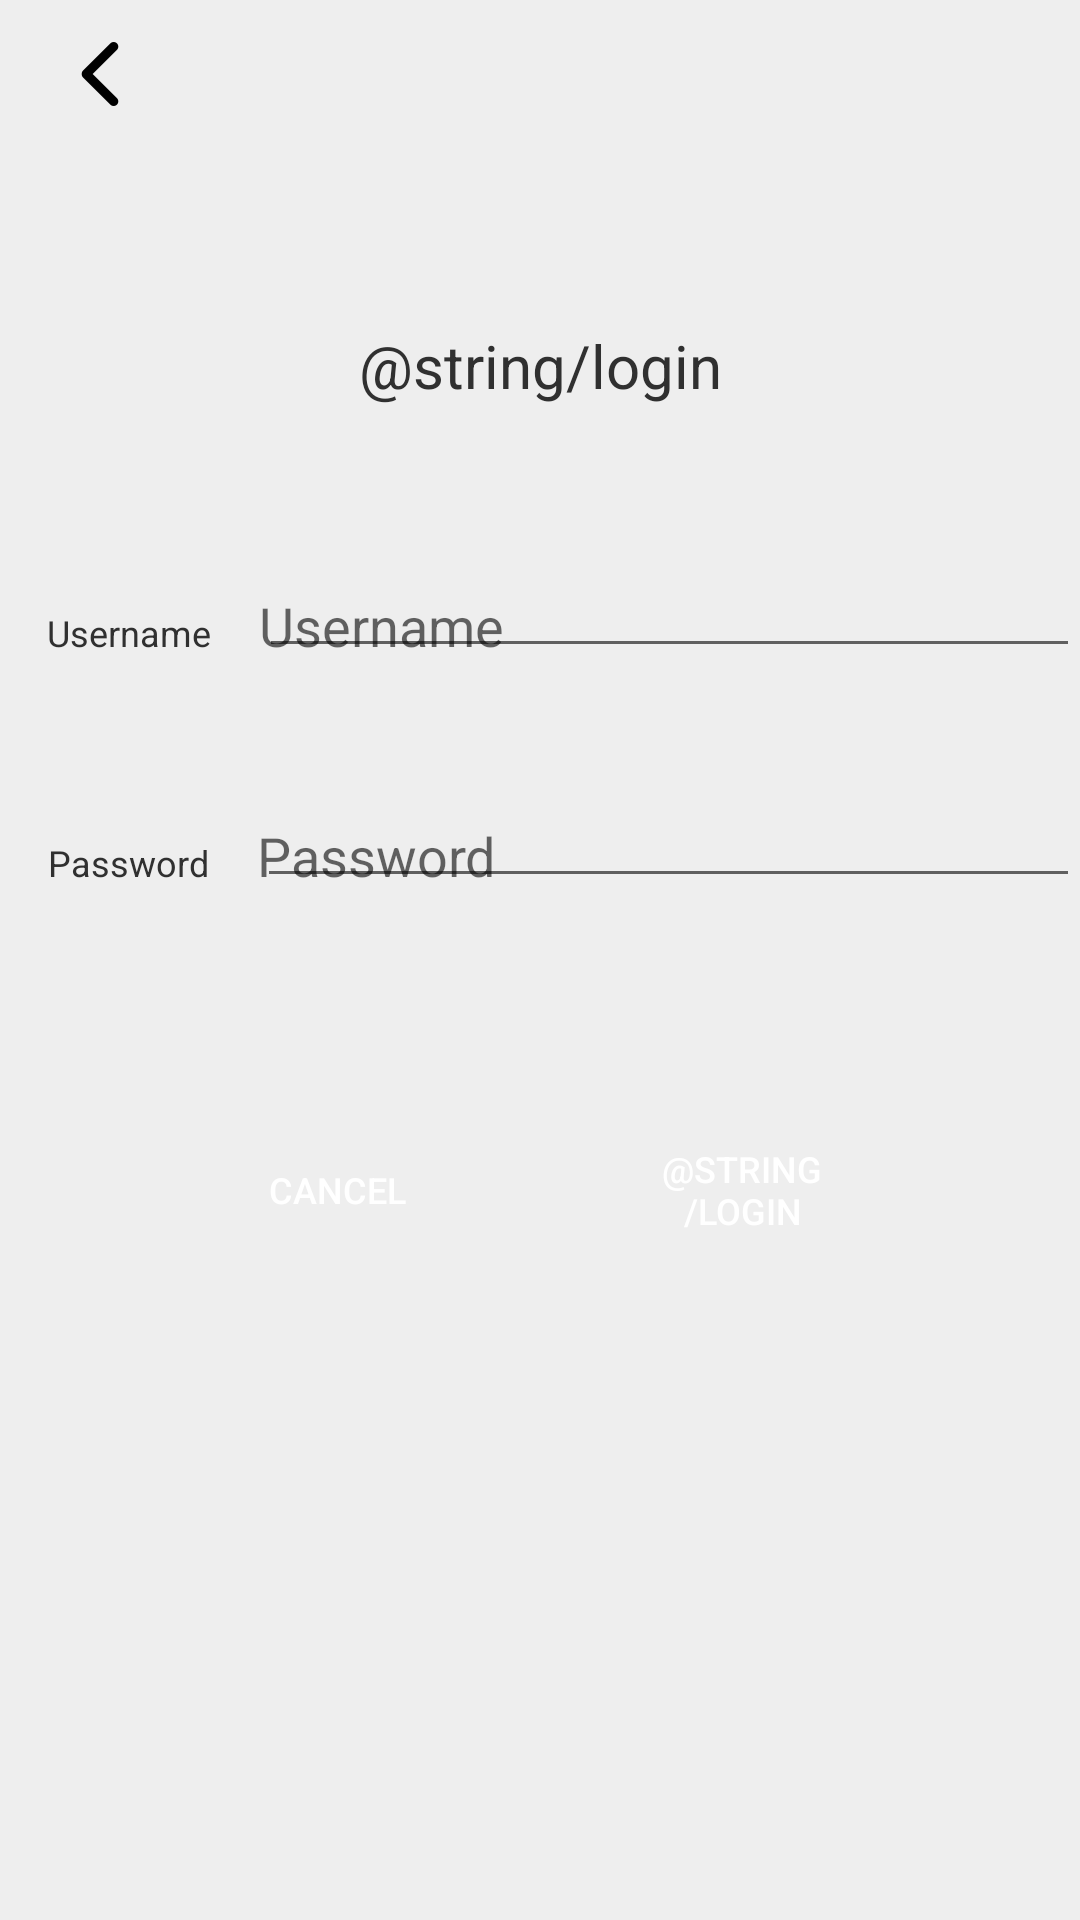

Icon bounding boxes for this 1080x1920 phone screenshot, format (x1, y1, x2, y2):
back arrow: (81, 42, 119, 106)
